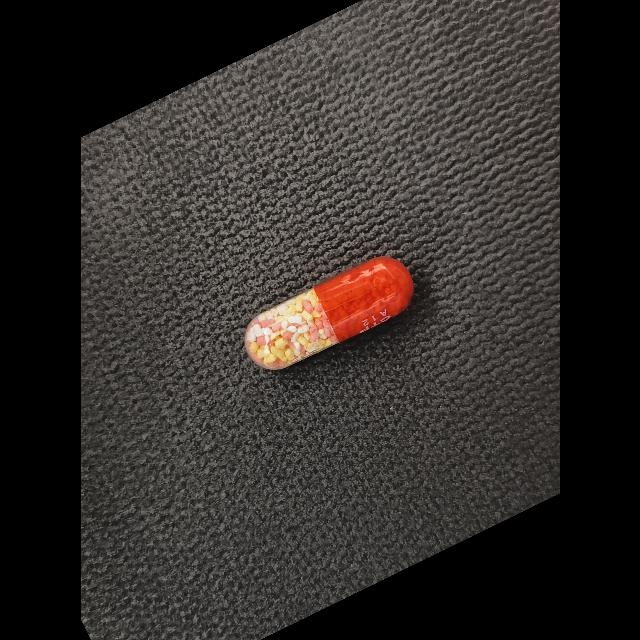Intact Capsule: (244, 257, 414, 370)
